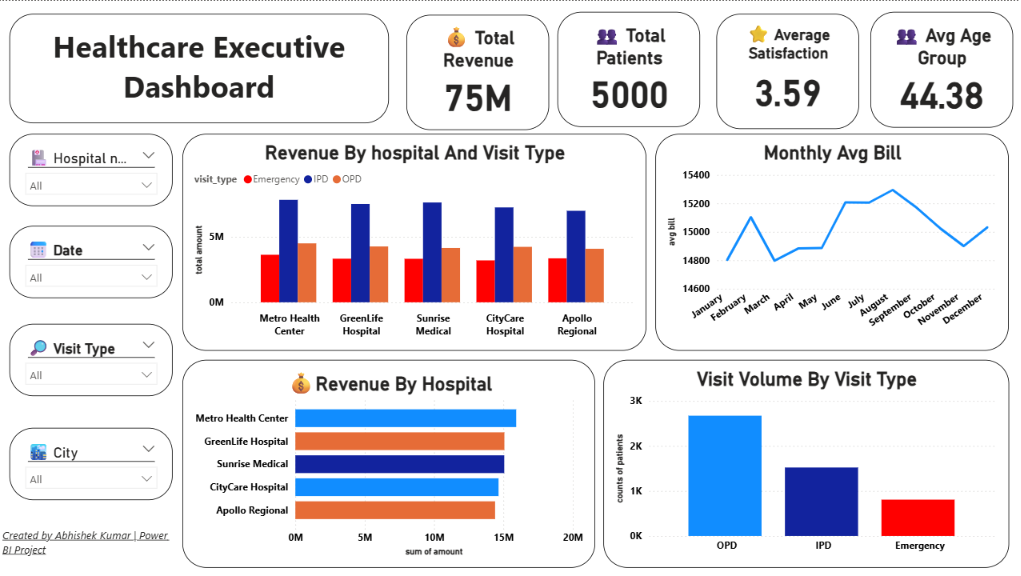

The dashboard page shown, as its layout file describes it:
{"tool":"powerbi","page":{"name":"Page 1","canvas":[1280,720],"ordinal":0},"visuals":[{"type":"card","title":"👥 Total Patients","fields":{"Values":["Count(HEALTHCARE.patient_id)"]},"box":[698.6,14.3,178.6,144.3],"z":0},{"type":"card","title":"💰 Total Revenue","fields":{"Values":["Sum(HEALTHCARE.total_bill_amount)"]},"box":[510,17.1,178.6,144.3],"z":1000},{"type":"card","title":"⭐ Average Satisfaction","fields":{"Values":["Avg(HEALTHCARE.satisfaction_score)"]},"box":[897.1,15.7,178.6,144.3],"z":2000},{"type":"clusteredColumnChart","title":"Visit Volume By Visit Type","fields":{"Category":["HEALTHCARE.visit_type"],"Y":["CountNonNull(HEALTHCARE.patient_id)"]},"box":[755.7,448.6,507.1,260],"z":3000},{"type":"clusteredBarChart","title":"💰Revenue By Hospital","fields":{"Category":["HEALTHCARE.hospital_name"],"Y":["Sum(HEALTHCARE.total_bill_amount)"]},"box":[230,448.6,515.7,260],"z":4000},{"type":"clusteredColumnChart","title":"Revenue By hospital And Visit Type","fields":{"Category":["HEALTHCARE.hospital_name"],"Series":["HEALTHCARE.visit_type"],"Y":["Sum(HEALTHCARE.total_bill_amount)"]},"box":[230,165.7,580,271.4],"z":5000},{"type":"slicer","fields":{"Values":["HEALTHCARE.hospital_name"]},"box":[14.3,165.7,204.3,90],"z":6000},{"type":"textbox","box":[14.3,15.7,474.3,137.1],"z":7000},{"type":"lineChart","title":"Monthly Avg Bill","fields":{"Category":["HEALTHCARE.visit_date.Variation.Date Hierarchy.Month"],"Y":["Avg(HEALTHCARE.total_bill_amount)"]},"box":[821.4,165.7,441.4,271.4],"z":8000},{"type":"slicer","fields":{"Values":["HEALTHCARE.visit_date.Variation.Date Hierarchy.Month"]},"box":[14.3,281.4,204.3,90],"z":9000},{"type":"slicer","fields":{"Values":["HEALTHCARE.visit_type"]},"box":[14.3,404.3,204.3,90],"z":10000},{"type":"slicer","fields":{"Values":["HEALTHCARE.city"]},"box":[14.3,534.3,204.3,90],"z":11000},{"type":"card","title":"👥 Avg Age Group","fields":{"Values":["Avg(HEALTHCARE.age)"]},"box":[1090,14,178,145],"z":12000},{"type":"textbox","box":[0,654.3,218.6,54.3],"z":12001}]}

Visuals, with their boxes in screenshot pixels (x1, y1, x2, y2), scaled from the page's 1280x720 canvas onto the 1021x576 screenshot:
"👥 Total Patients" card: {"left": 557, "top": 11, "right": 700, "bottom": 127}
"💰 Total Revenue" card: {"left": 407, "top": 14, "right": 549, "bottom": 129}
"⭐ Average Satisfaction" card: {"left": 716, "top": 13, "right": 858, "bottom": 128}
"Visit Volume By Visit Type" clusteredColumnChart: {"left": 603, "top": 359, "right": 1007, "bottom": 567}
"💰Revenue By Hospital" clusteredBarChart: {"left": 183, "top": 359, "right": 595, "bottom": 567}
"Revenue By hospital And Visit Type" clusteredColumnChart: {"left": 183, "top": 133, "right": 646, "bottom": 350}
slicer - HEALTHCARE.hospital_name: {"left": 11, "top": 133, "right": 174, "bottom": 205}
textbox: {"left": 11, "top": 13, "right": 390, "bottom": 122}
"Monthly Avg Bill" lineChart: {"left": 655, "top": 133, "right": 1007, "bottom": 350}
slicer - HEALTHCARE.visit_date.Variation.Date Hierarchy.Month: {"left": 11, "top": 225, "right": 174, "bottom": 297}
slicer - HEALTHCARE.visit_type: {"left": 11, "top": 323, "right": 174, "bottom": 395}
slicer - HEALTHCARE.city: {"left": 11, "top": 427, "right": 174, "bottom": 499}
"👥 Avg Age Group" card: {"left": 869, "top": 11, "right": 1011, "bottom": 127}
textbox: {"left": 0, "top": 523, "right": 174, "bottom": 567}
